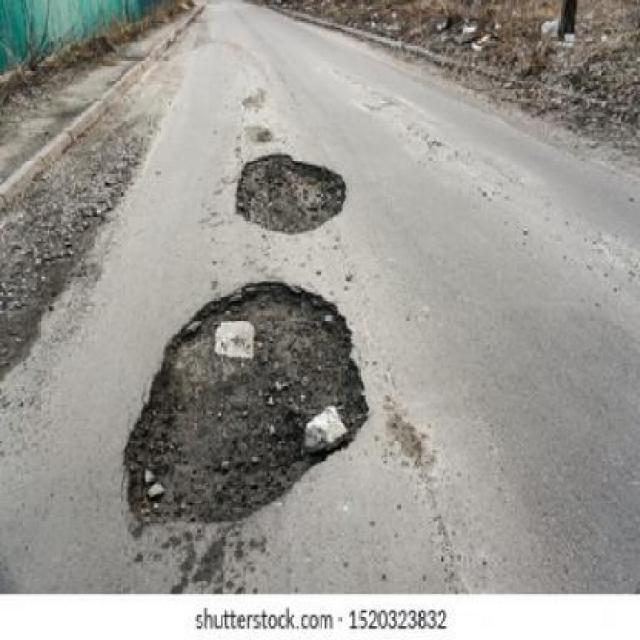pothole: (118, 277, 372, 526), (233, 153, 347, 233)
